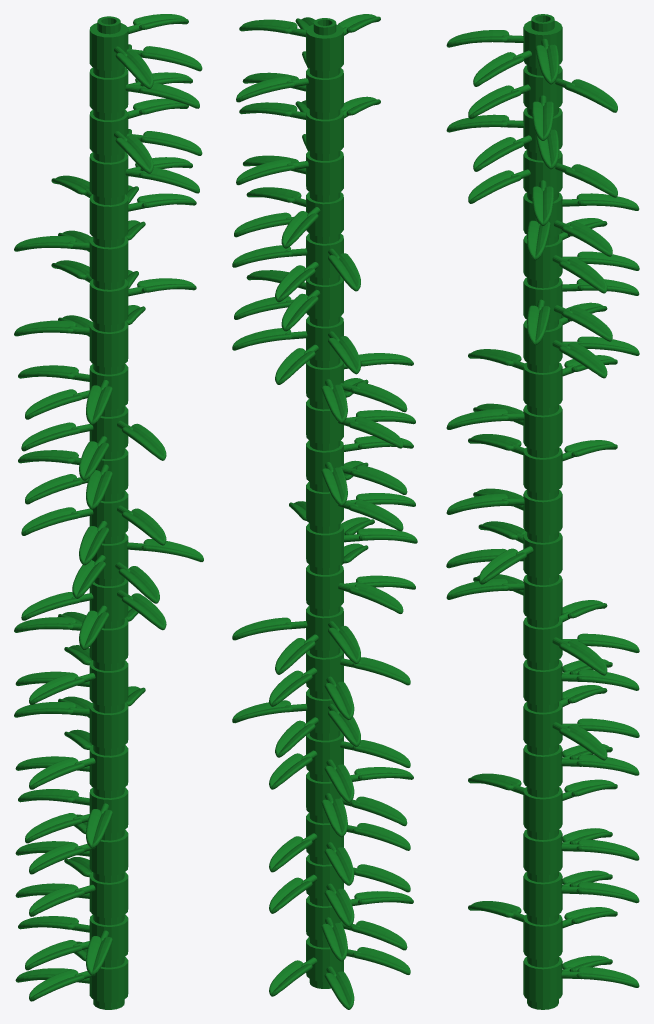
File: longGrass.fbx
3 views of the same model, side by side, from view 1: azimuth 30°, elevation 25°; view 2: azimuth 150°, elevation 25°; view 3: azimuth 270°, elevation 25° (orthographic). The views are drawn at different scales.
Parts seen in each view (by area): view 1: Part.013; view 2: Part.013; view 3: Part.013.
Part boxes in pixels (x1,y1,x2,y2): Part.013: (14, 14, 203, 1009); Part.013: (232, 14, 417, 1009); Part.013: (446, 14, 639, 1009).
Size of the model in its own units: 198 by 1113 by 198.
